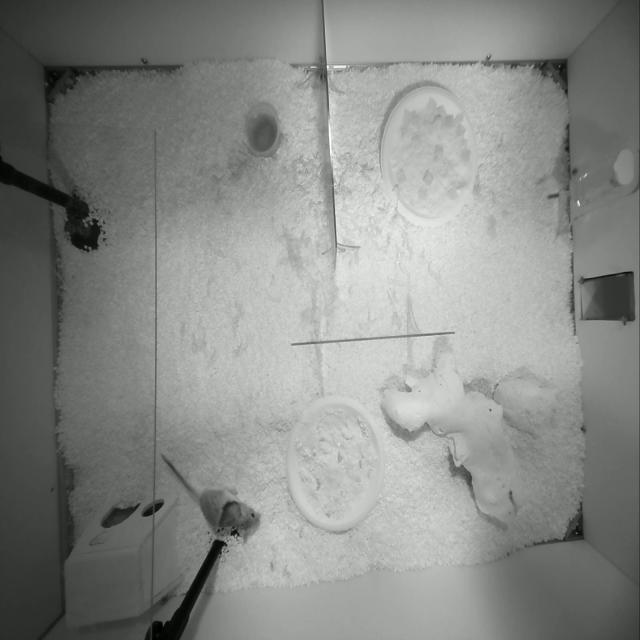adult_front: (162, 454, 260, 541)
